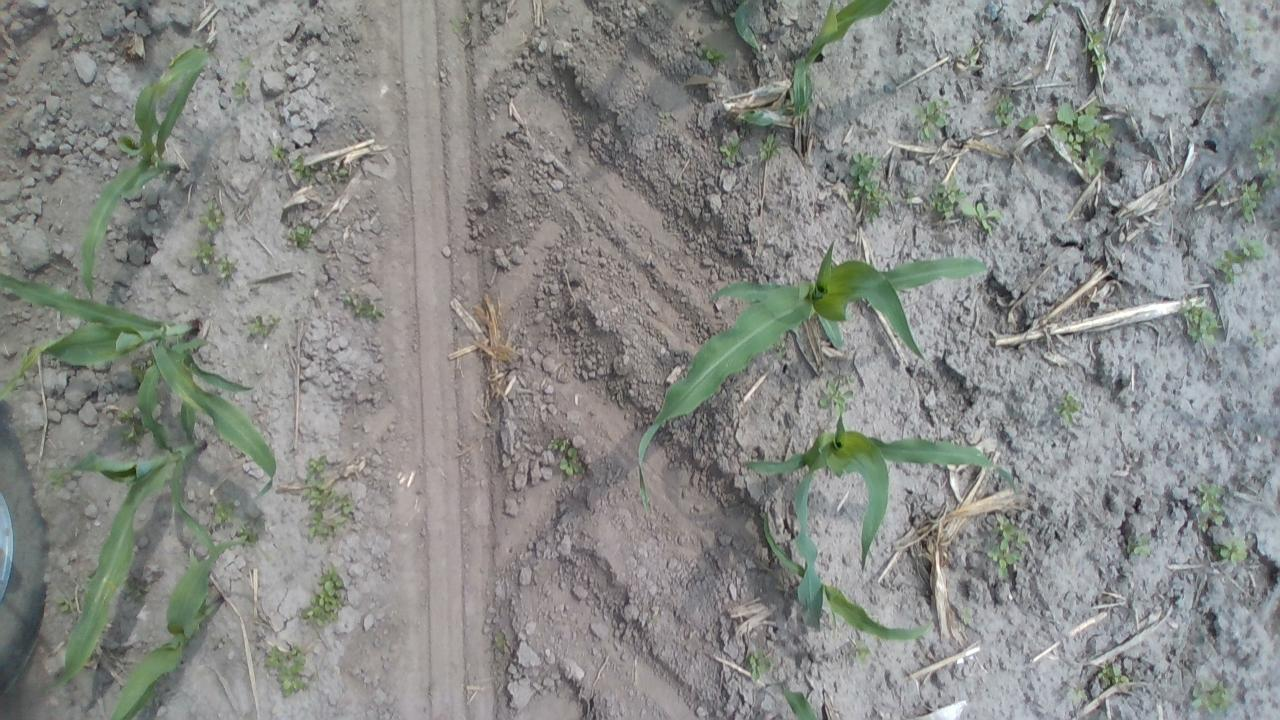Maize: (634, 239, 992, 519), (0, 268, 282, 502), (41, 342, 222, 706), (740, 411, 1022, 633), (78, 42, 215, 304), (98, 537, 248, 720), (758, 504, 936, 644), (735, 0, 896, 129), (779, 685, 824, 720)
Weeds: (1048, 102, 1114, 183), (301, 454, 359, 544), (928, 183, 1005, 236), (1210, 172, 1280, 228), (845, 150, 892, 224), (982, 512, 1033, 578), (298, 564, 348, 630), (260, 644, 314, 700), (907, 94, 958, 146), (1213, 236, 1265, 285), (1176, 299, 1222, 348), (1182, 678, 1236, 714), (1192, 482, 1229, 534), (816, 371, 859, 413), (1082, 28, 1114, 84), (1245, 121, 1280, 170), (546, 437, 586, 479), (337, 290, 383, 322), (116, 410, 150, 451), (1052, 390, 1088, 428), (743, 648, 779, 685), (1212, 537, 1250, 569), (196, 198, 227, 236), (1094, 664, 1136, 692), (241, 314, 283, 340), (206, 498, 238, 530), (757, 130, 788, 163), (716, 136, 745, 168), (1121, 534, 1156, 560), (46, 465, 80, 491), (285, 222, 319, 248), (992, 98, 1018, 132), (234, 521, 264, 548), (128, 360, 156, 388), (191, 240, 214, 272), (702, 44, 731, 69), (215, 256, 240, 284), (286, 158, 312, 184), (1020, 110, 1044, 138), (846, 641, 874, 664), (447, 14, 472, 36), (230, 79, 253, 101), (52, 590, 74, 613), (1067, 686, 1091, 704), (956, 604, 974, 627), (268, 142, 286, 164), (324, 166, 349, 181), (657, 108, 673, 131), (234, 54, 252, 68), (68, 36, 84, 48), (104, 42, 120, 53)
